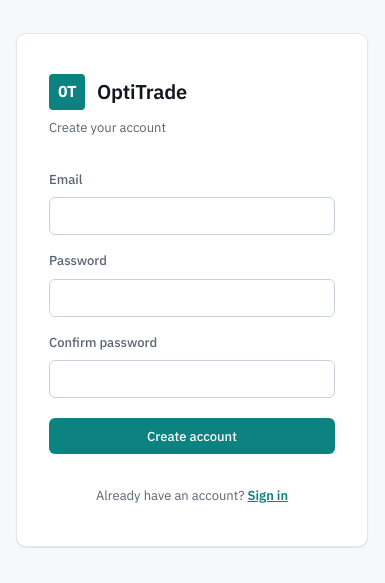
Test: RegisterPage › shows the backend error and stays on the page for a duplicate email
The image size is (385, 583).
Type "trader@optitrade.io" into the field labelled "Email".
click(192, 216); type("trader@optitrade.io")  # box x1=49 y1=197 x2=335 y2=235
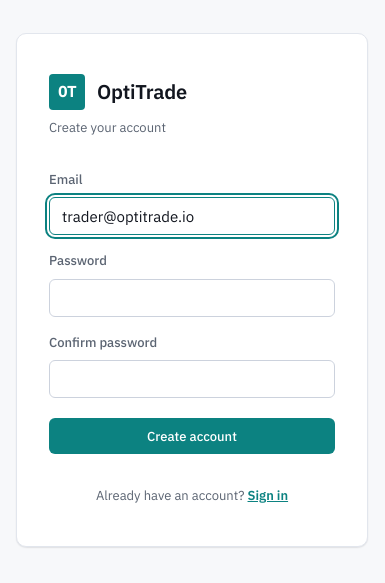
Type "Password123" into the password field labelled "Password".
click(192, 298); type("Password123")  # box x1=49 y1=279 x2=335 y2=317
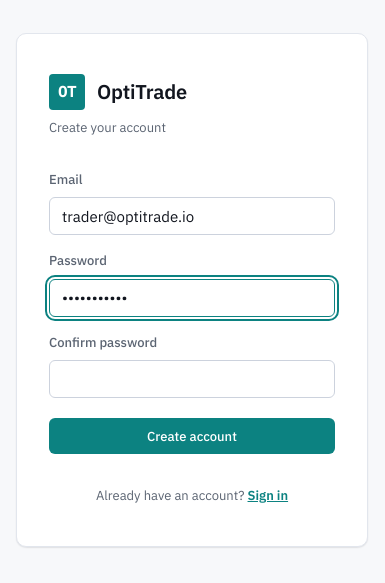
Type "Password123" into the password field labelled "Confirm password".
click(192, 379); type("Password123")  # box x1=49 y1=360 x2=335 y2=398
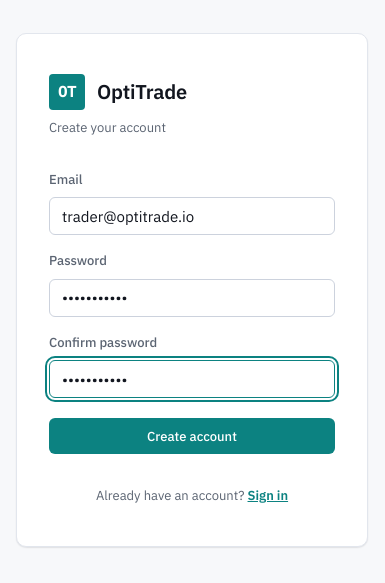
Click the button "Create account".
click(192, 436)  # box x1=49 y1=418 x2=335 y2=454
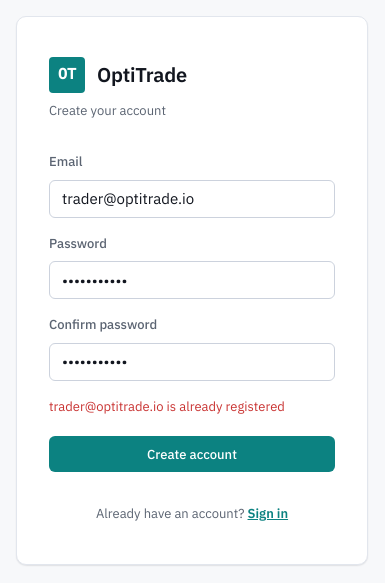
Expected: the button "Create account" is shown, x1=49 y1=436 x2=335 y2=472
Expected: the text "trader@optitrade.io is already registered" is shown, x1=49 y1=398 x2=285 y2=414
